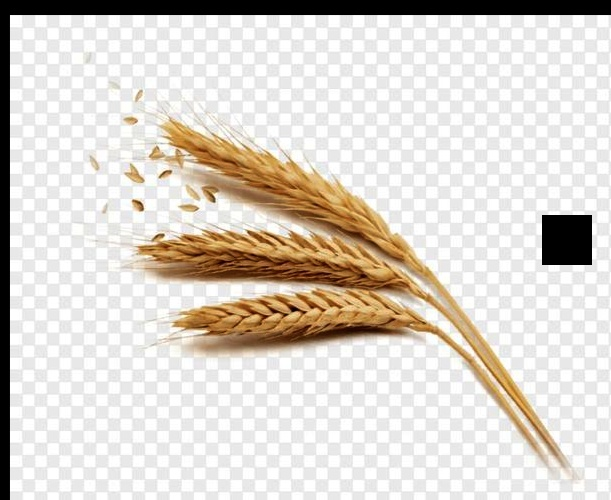wheat: (152, 117, 417, 263), (109, 219, 426, 293), (147, 287, 434, 334)
